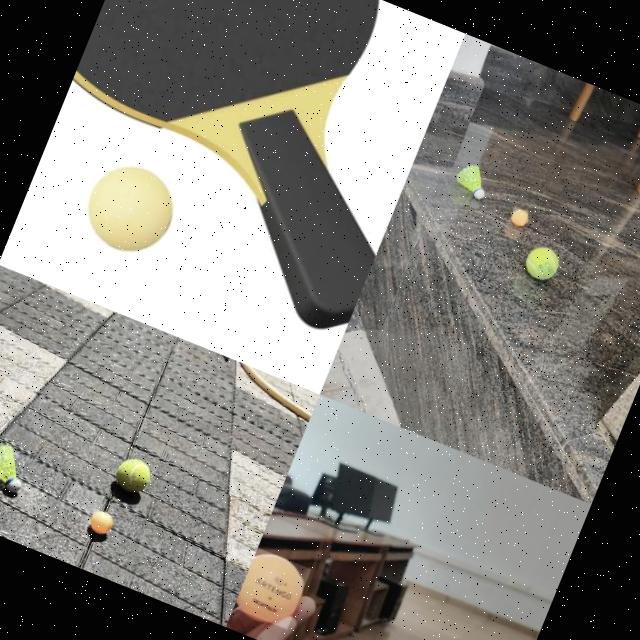ping-pong-ball: (74, 154, 184, 263), (232, 546, 313, 632), (86, 508, 113, 536), (508, 206, 530, 227)
